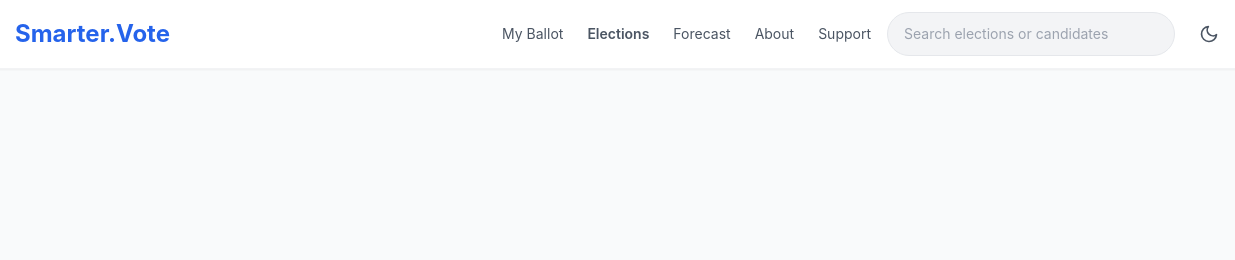
it: SiteHeader search matching › matches a candidate by name
Type "Jane" into the dropdown with id "site-search" at [1031, 34], box x1=887 y1=12 x2=1175 y2=56
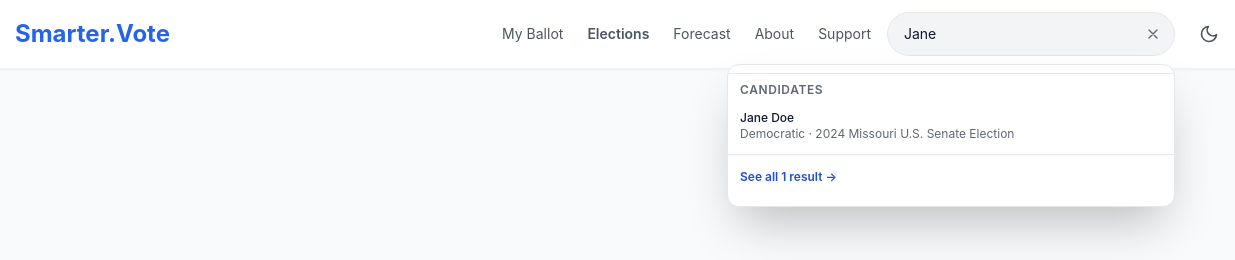
Expected: the text "Jane Doe" is shown, x1=740 y1=110 x2=794 y2=125
